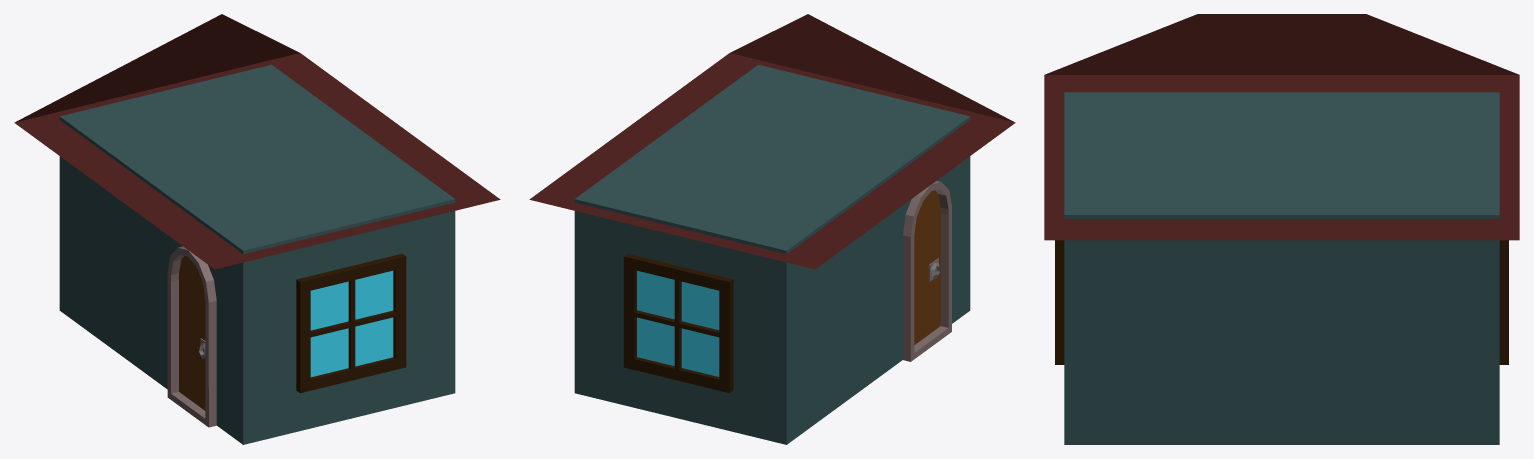
The model's file is goofyahhouse.fbx.
The picture shows the model from 3 angles, left to right: view 1: azimuth 30°, elevation 25°; view 2: azimuth 150°, elevation 25°; view 3: azimuth 270°, elevation 25°; orthographic projection. The views are drawn at different scales.
Parts seen in each view (by area): view 1: House; view 2: House; view 3: House.
Boxes of the visible parts, bbox=[...] form: House: bbox=[14, 14, 500, 444]; House: bbox=[529, 14, 1015, 444]; House: bbox=[1044, 14, 1519, 444].
Size of the model in its own units: 540 by 562 by 655.
